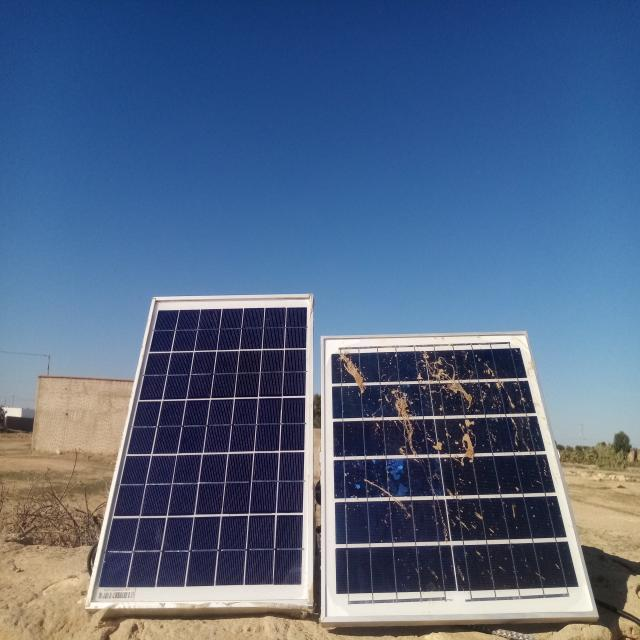Normal Solar Panel: (85, 292, 313, 606)
